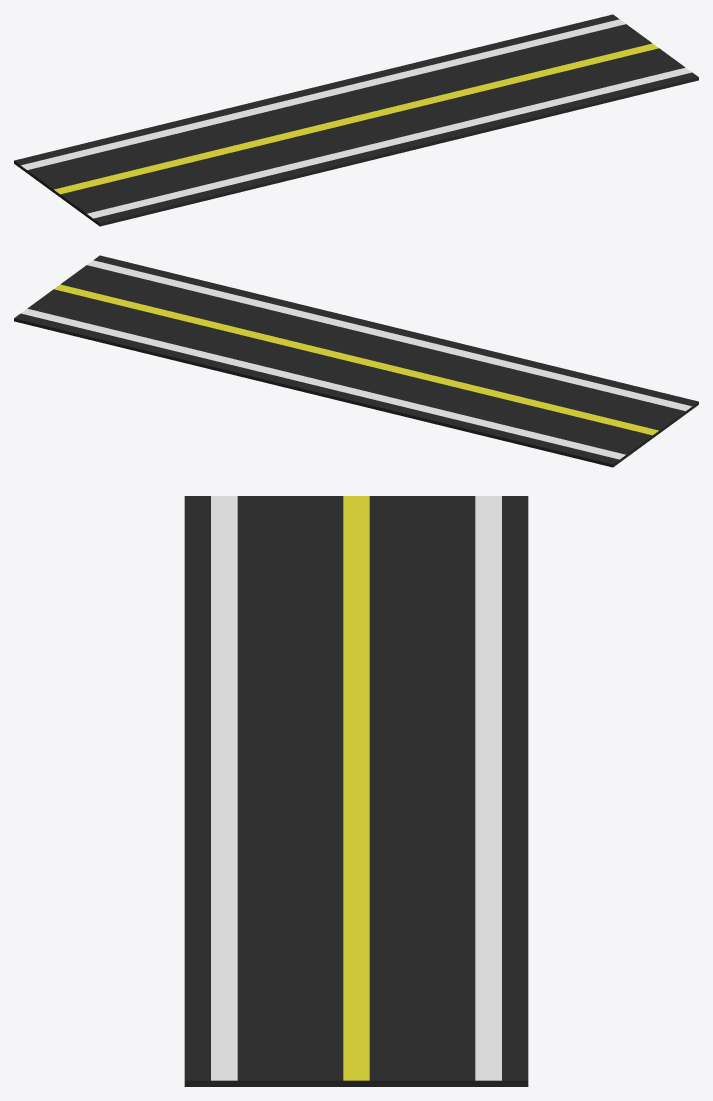
The model's file is straightRoad.glb.
3 views of the same model, one above another, from view 1: azimuth 30°, elevation 25°; view 2: azimuth 150°, elevation 25°; view 3: azimuth 270°, elevation 25° (orthographic). The views are drawn at different scales.
Visible parts, largest first — view 1: Cube; view 2: Cube; view 3: Cube.
Part boxes in pixels (x1=…): Cube: x1=14, y1=14, x2=698, y2=226; Cube: x1=14, y1=255, x2=698, y2=467; Cube: x1=184, y1=496, x2=528, y2=1086.
Size of the model in its own units: 20.13 by 0.1 by 5.
